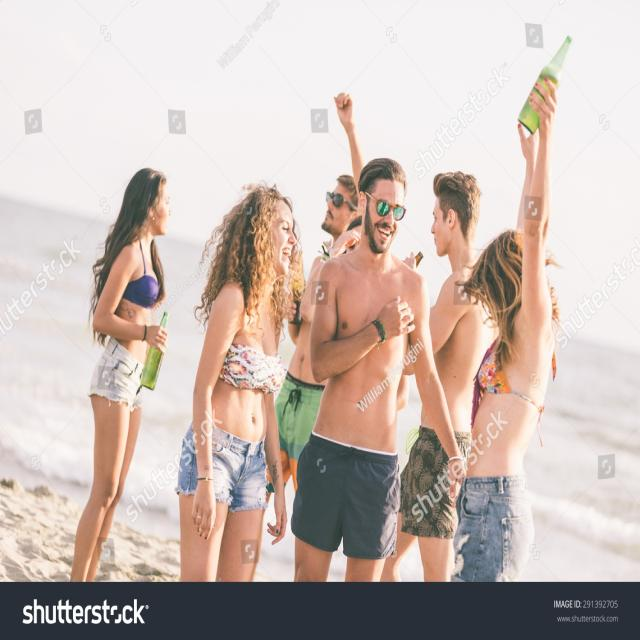body: (290, 156, 467, 581), (444, 71, 570, 584), (172, 184, 306, 584), (262, 90, 368, 542), (379, 169, 487, 582), (68, 167, 173, 583), (298, 215, 367, 330)
